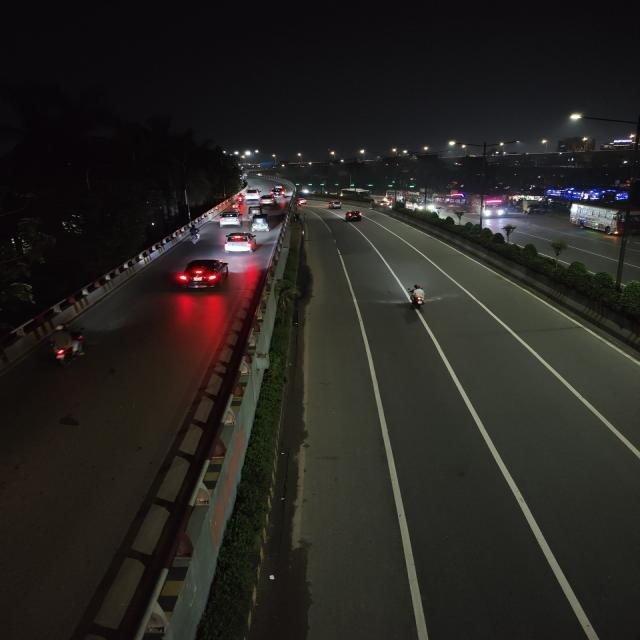bus: (567, 201, 640, 239), (435, 195, 474, 214), (471, 198, 505, 218)
car: (179, 252, 228, 293), (222, 233, 259, 253), (219, 211, 239, 229), (326, 198, 346, 211), (345, 210, 364, 222), (257, 194, 276, 206), (268, 186, 286, 198), (244, 187, 259, 201)
cng: (248, 212, 270, 232), (248, 206, 264, 219)
motorcycle: (47, 322, 91, 371), (404, 279, 431, 317), (181, 222, 204, 248)
truck: (522, 199, 545, 216)
